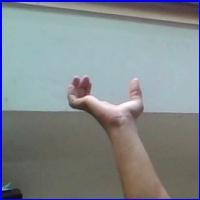B: (63, 69, 151, 123)
